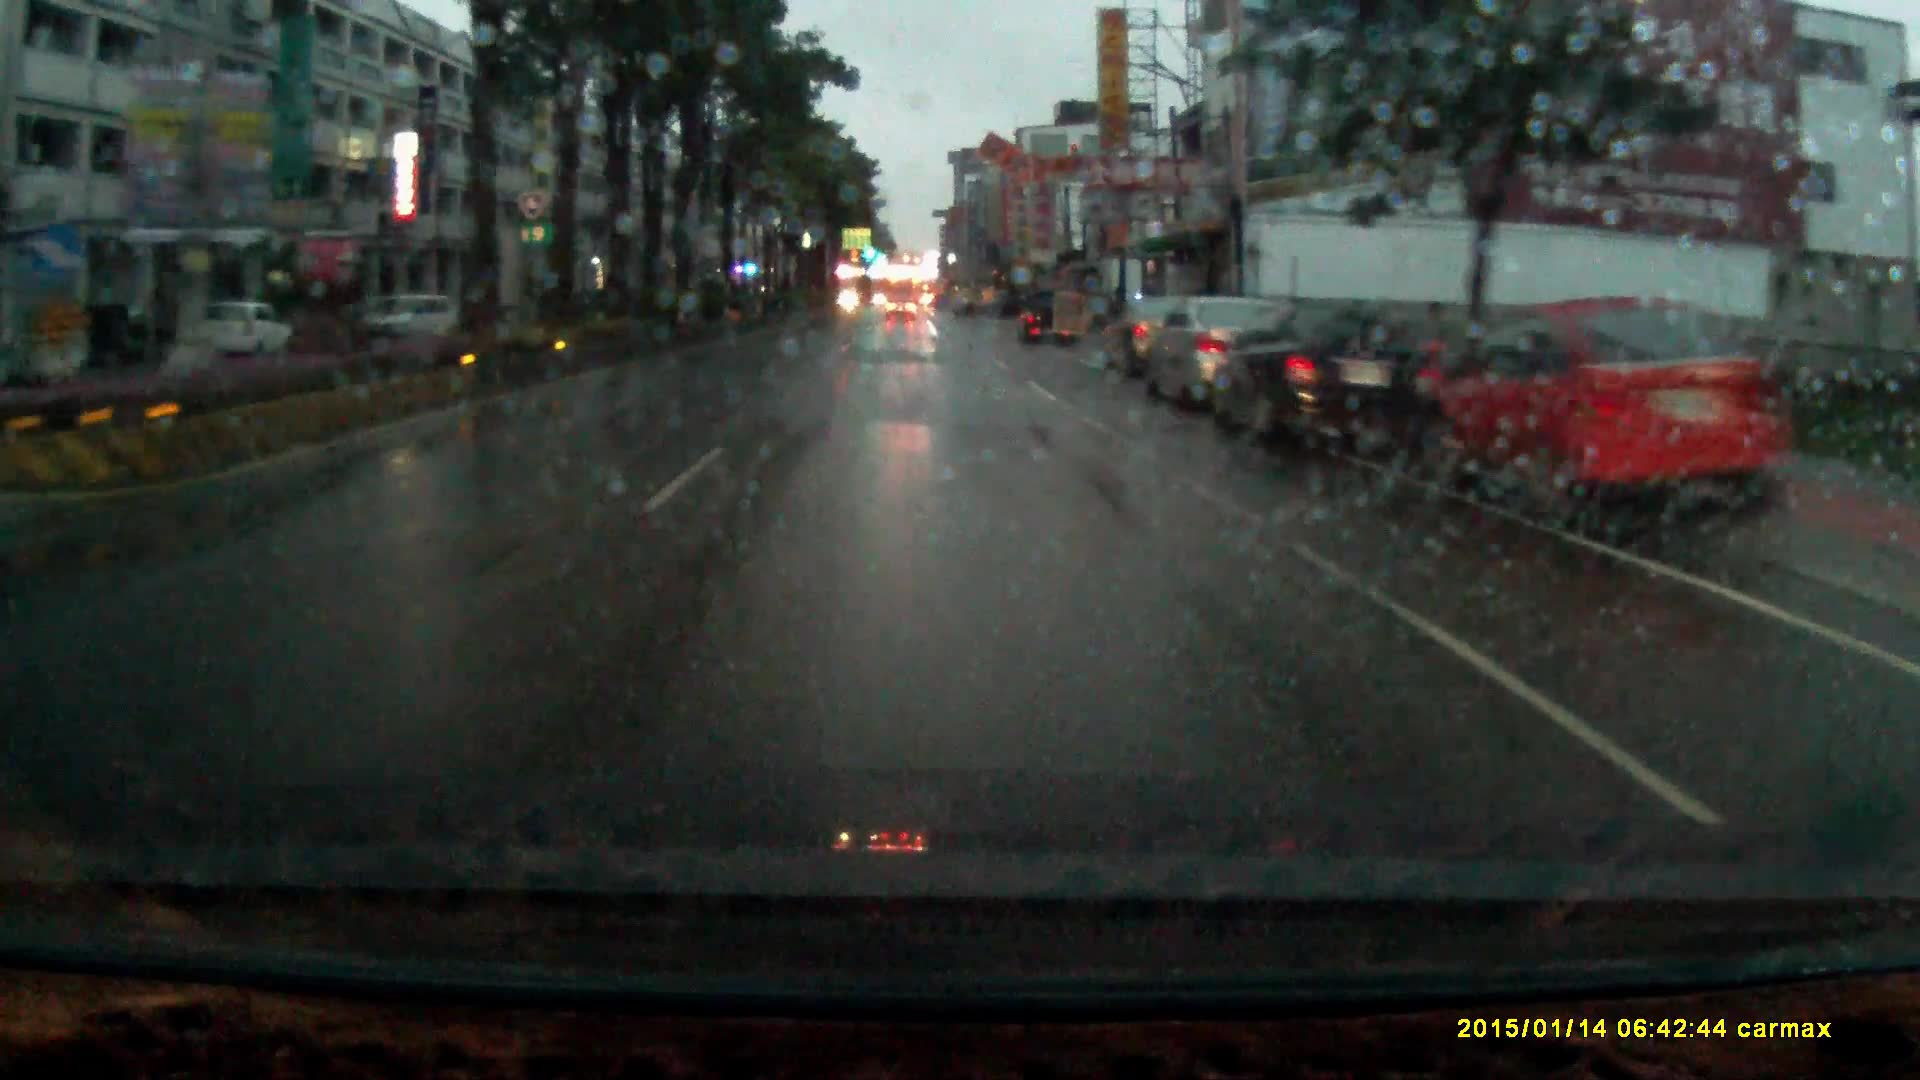vehicle: (1440, 295, 1793, 531), (1208, 301, 1443, 456), (1142, 295, 1291, 400), (349, 291, 462, 345), (1100, 298, 1178, 373), (200, 301, 287, 355), (1011, 286, 1079, 349), (886, 293, 916, 323)
